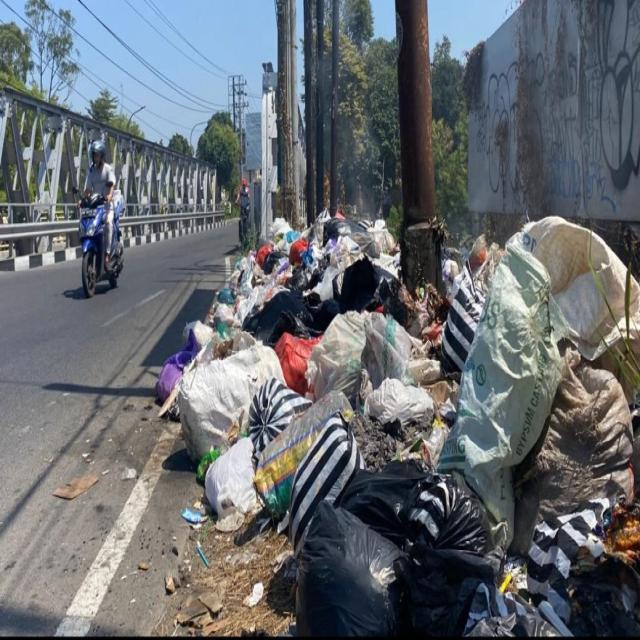trash: (150, 210, 640, 638)
